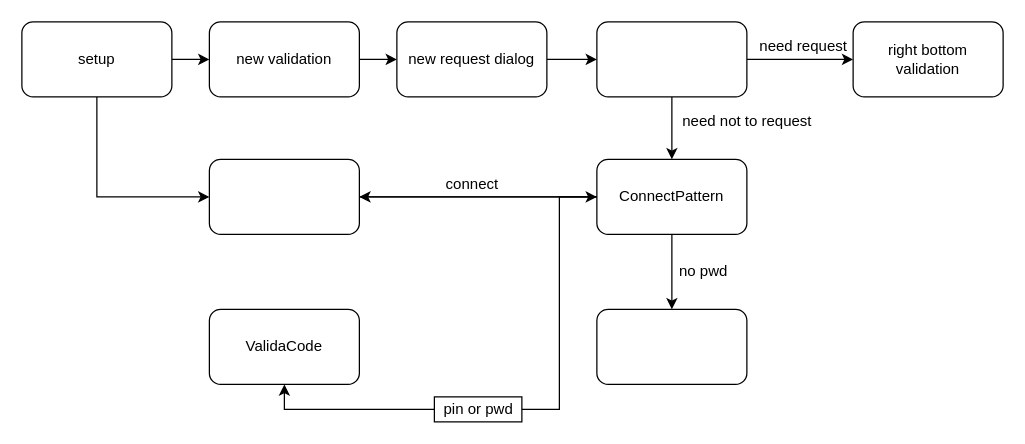
Image size: 1025x444. Some labels were removed from this diagram. Here are the shapes that lost their labels. From the top down, the centre of each, then its label:
At point (671, 59): "CastMode".
At point (283, 196): "new CheckDialog".
At point (671, 346): "emit".
